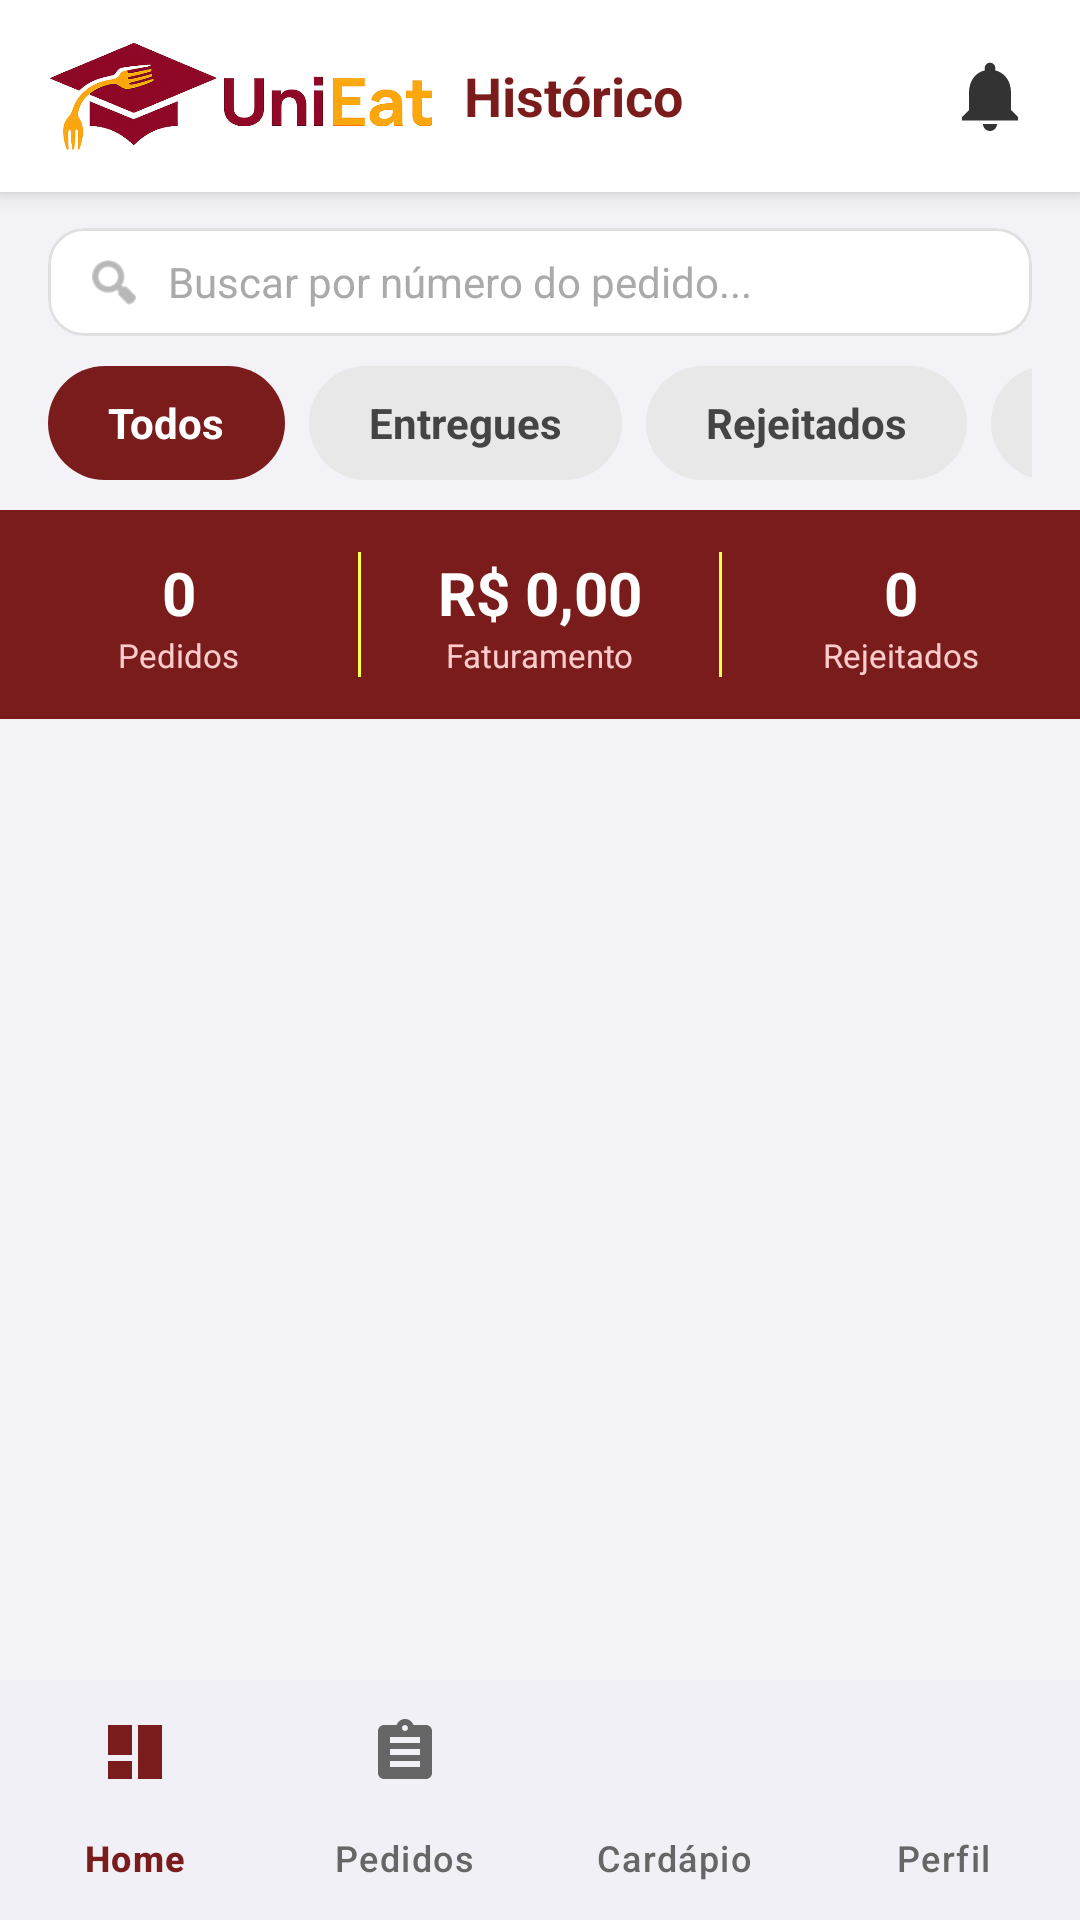

Point at icon controls on the screen. Image size 1080×1920, points as [x,y].
bell: [990,96]
search: [114,282]
